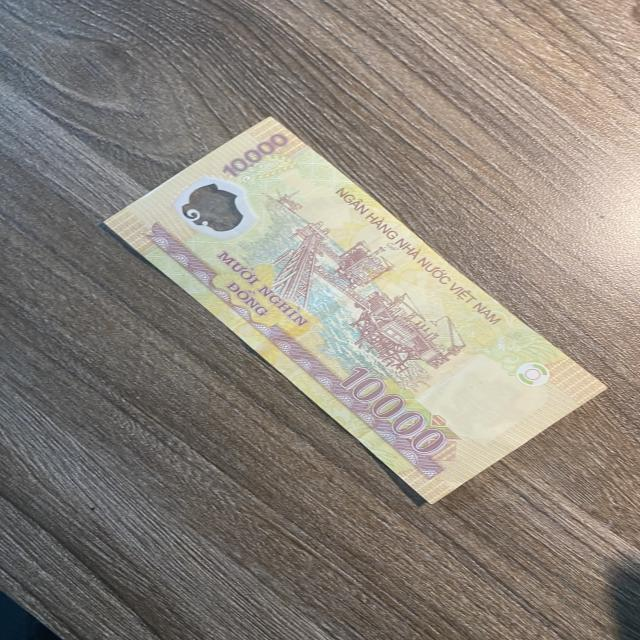10 000 VND: (99, 115, 609, 507)
